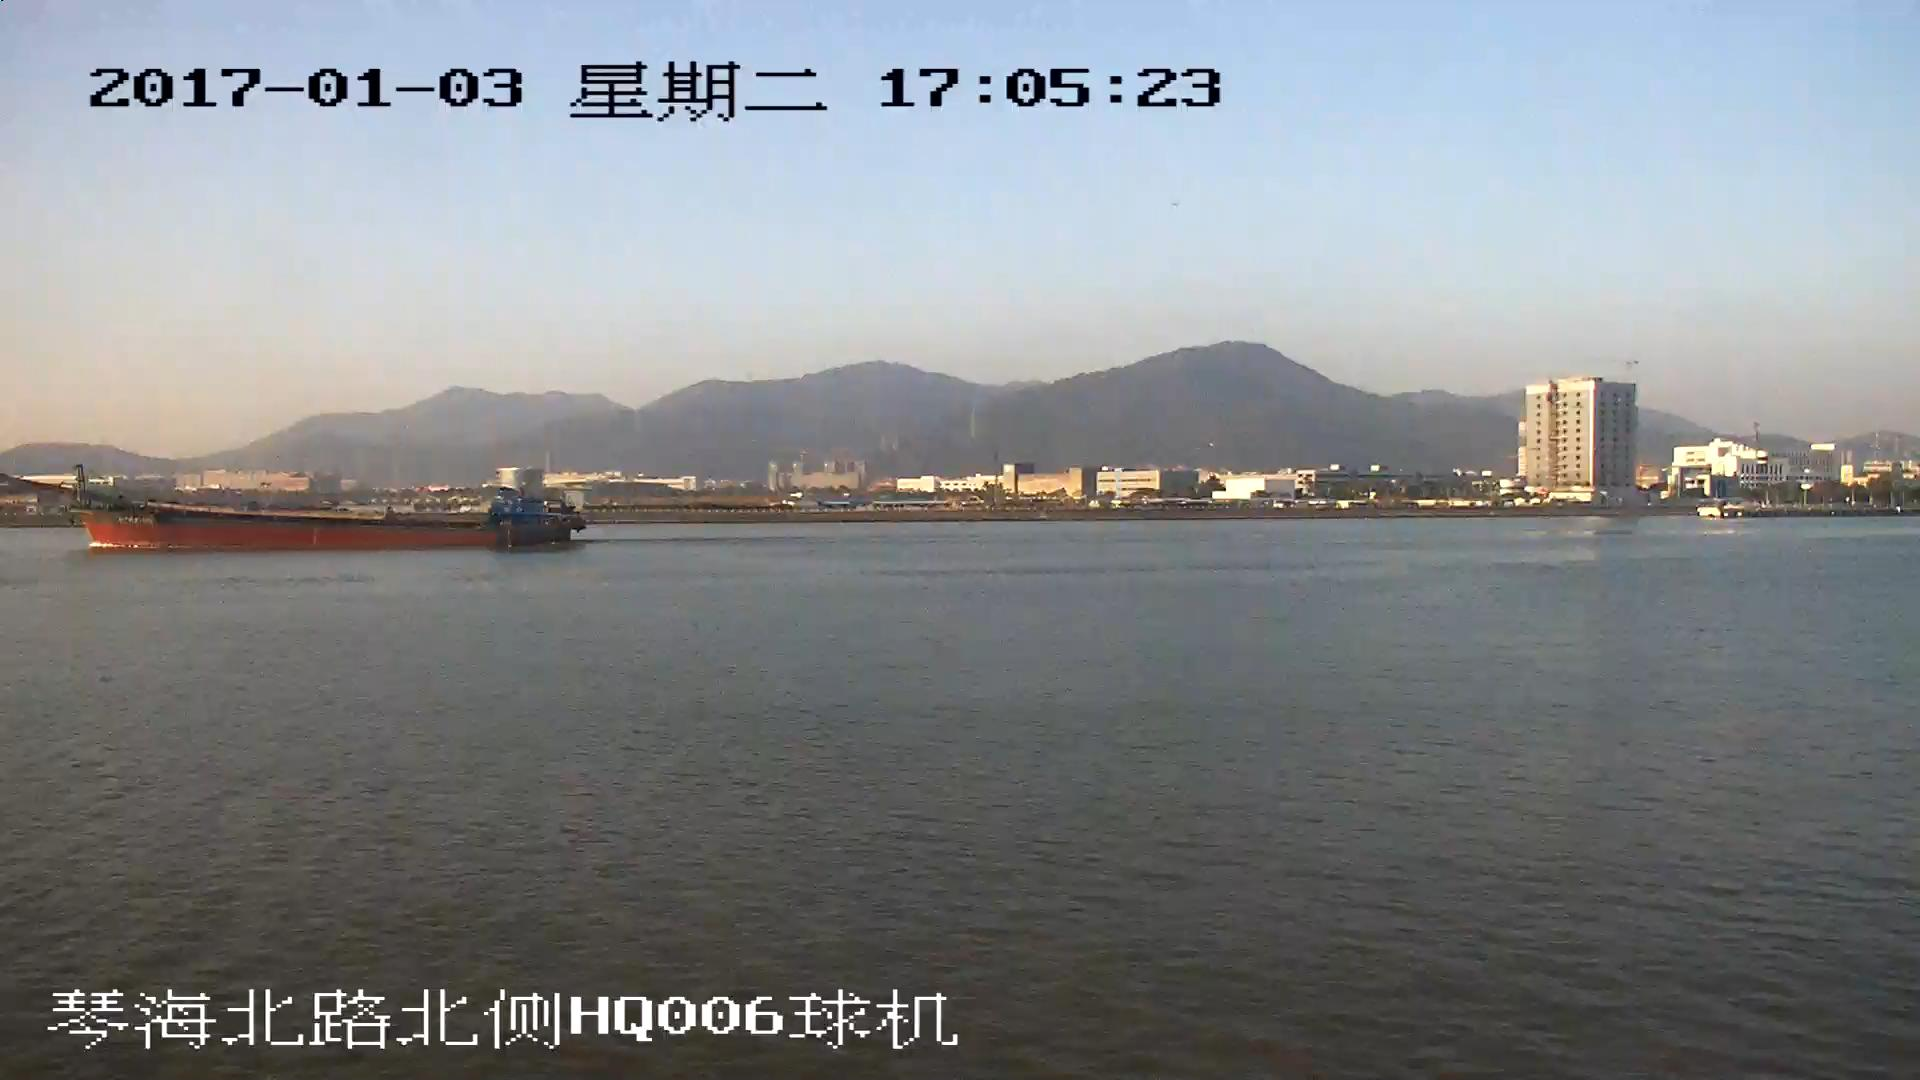bulk cargo carrier: (1, 474, 587, 545)
